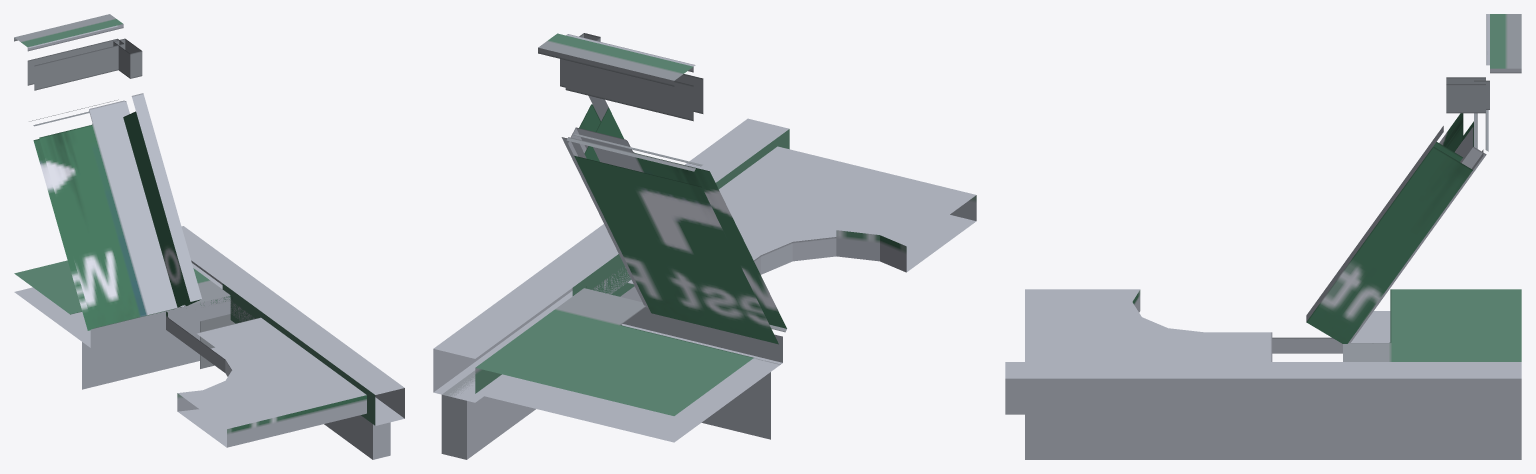
The model's file is section-1.obj.
The picture shows the model from 3 angles, left to right: view 1: azimuth 30°, elevation 25°; view 2: azimuth 150°, elevation 25°; view 3: azimuth 270°, elevation 25°; orthographic projection. The views are drawn at different scales.
Size of the model in its own units: 0.575 by 0.98 by 1.3.
